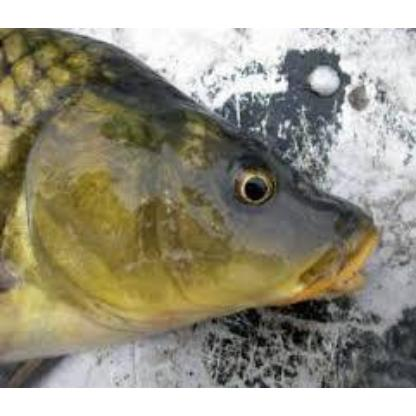ikan-mas: (0, 30, 382, 362)
